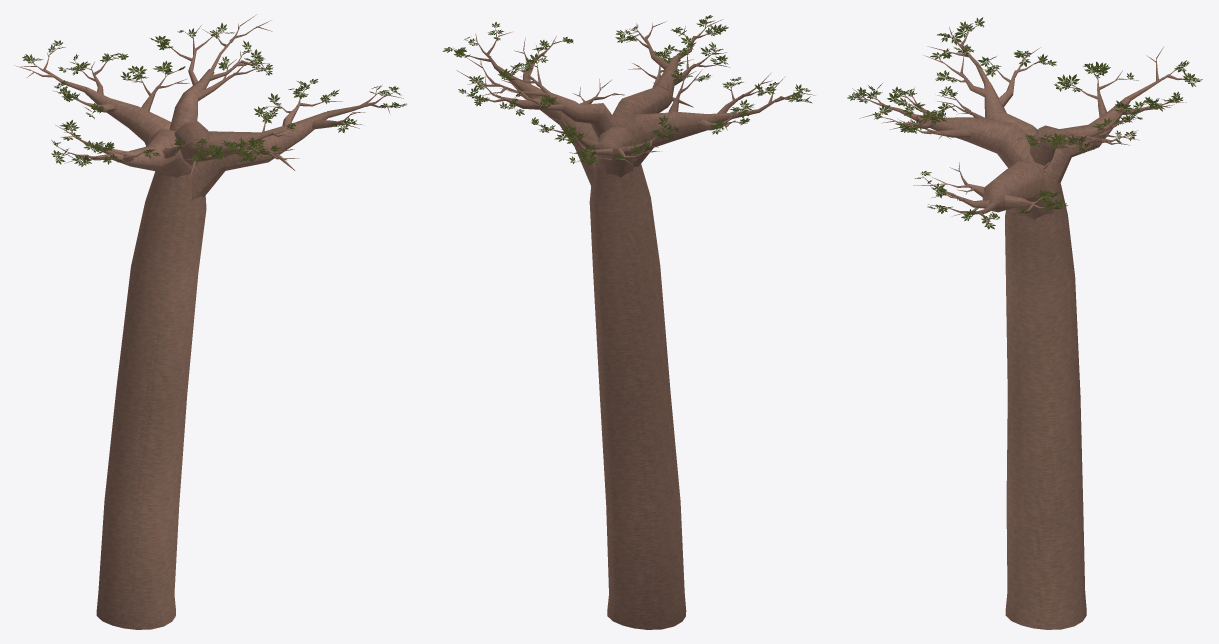
Rendered from Baoba_05_Grandidieri_Inclinado.glb.
3 views of the same model, side by side, from view 1: azimuth 30°, elevation 25°; view 2: azimuth 150°, elevation 25°; view 3: azimuth 270°, elevation 25° (orthographic). The views are drawn at different scales.
Visible parts, largest first — view 1: Tronco, Bracos principais, Folhas palmadas, Ramos secundarios, Ramos finos, Ponteiras; view 2: Tronco, Bracos principais, Folhas palmadas, Ramos secundarios, Ramos finos, Ponteiras; view 3: Tronco, Bracos principais, Folhas palmadas, Ramos secundarios, Ramos finos, Ponteiras.
Boxes of the visible parts, bbox=[...] form: Tronco: bbox=[96, 171, 206, 629]; Bracos principais: bbox=[85, 69, 328, 200]; Folhas palmadas: bbox=[22, 23, 406, 166]; Ramos secundarios: bbox=[44, 37, 369, 162]; Ramos finos: bbox=[31, 26, 386, 159]; Ponteiras: bbox=[14, 14, 403, 163]; Tronco: bbox=[589, 162, 686, 629]; Bracos principais: bbox=[509, 56, 731, 187]; Folhas palmadas: bbox=[442, 15, 812, 165]; Ramos secundarios: bbox=[487, 37, 779, 156]; Ramos finos: bbox=[466, 26, 796, 160]; Ponteiras: bbox=[453, 16, 815, 164]; Tronco: bbox=[1005, 172, 1086, 629]; Bracos principais: bbox=[915, 81, 1130, 219]; Folhas palmadas: bbox=[847, 17, 1202, 229]; Ramos secundarios: bbox=[885, 45, 1166, 213]; Ramos finos: bbox=[866, 31, 1185, 218]; Ponteiras: bbox=[852, 25, 1191, 222].
Size of the model in its own units: 16.5 by 23.38 by 13.82.
Materials: 2 (2 with a texture image).
